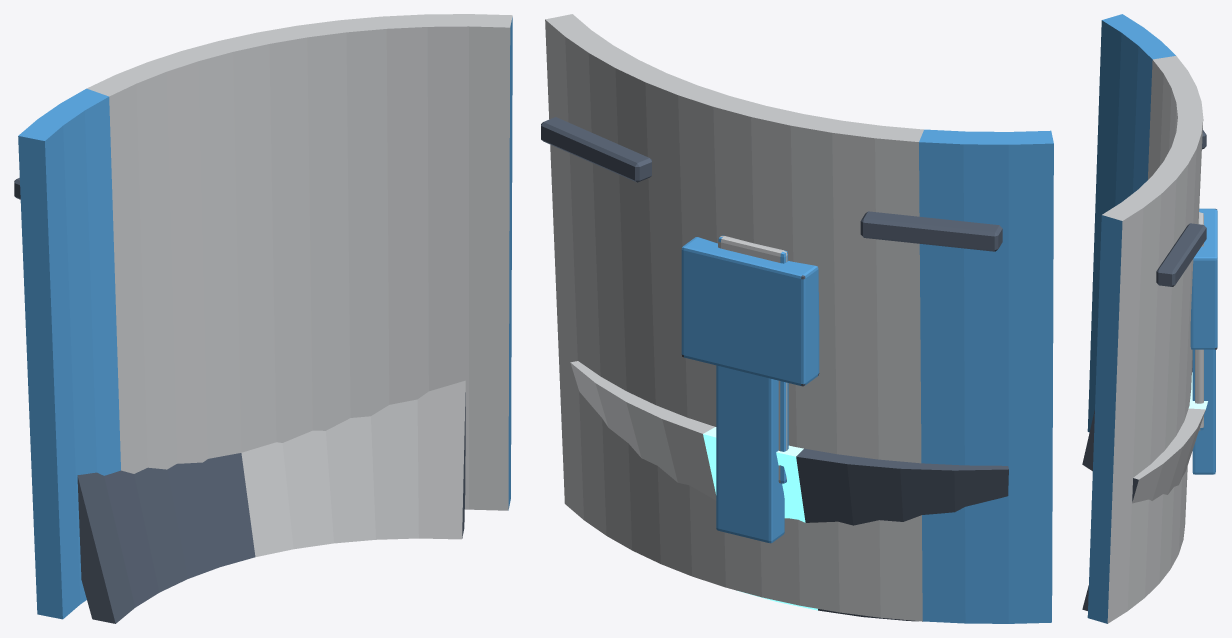
The model's file is back__bold.glb.
3 renders of one model, left to right at view 1: azimuth 30°, elevation 25°; view 2: azimuth 150°, elevation 25°; view 3: azimuth 270°, elevation 25°, orthographic. The views are drawn at different scales.
Parts seen in each view (by area): view 1: armor_back__bold_v001; view 2: armor_back__bold_v001; view 3: armor_back__bold_v001.
Part boxes in pixels (<box>): armor_back__bold_v001: <box>14,14,512,623</box>; armor_back__bold_v001: <box>541,14,1053,623</box>; armor_back__bold_v001: <box>1082,14,1217,623</box>.
Bounding box in the file's own units: 0.5452 × 0.515 × 0.1506.
